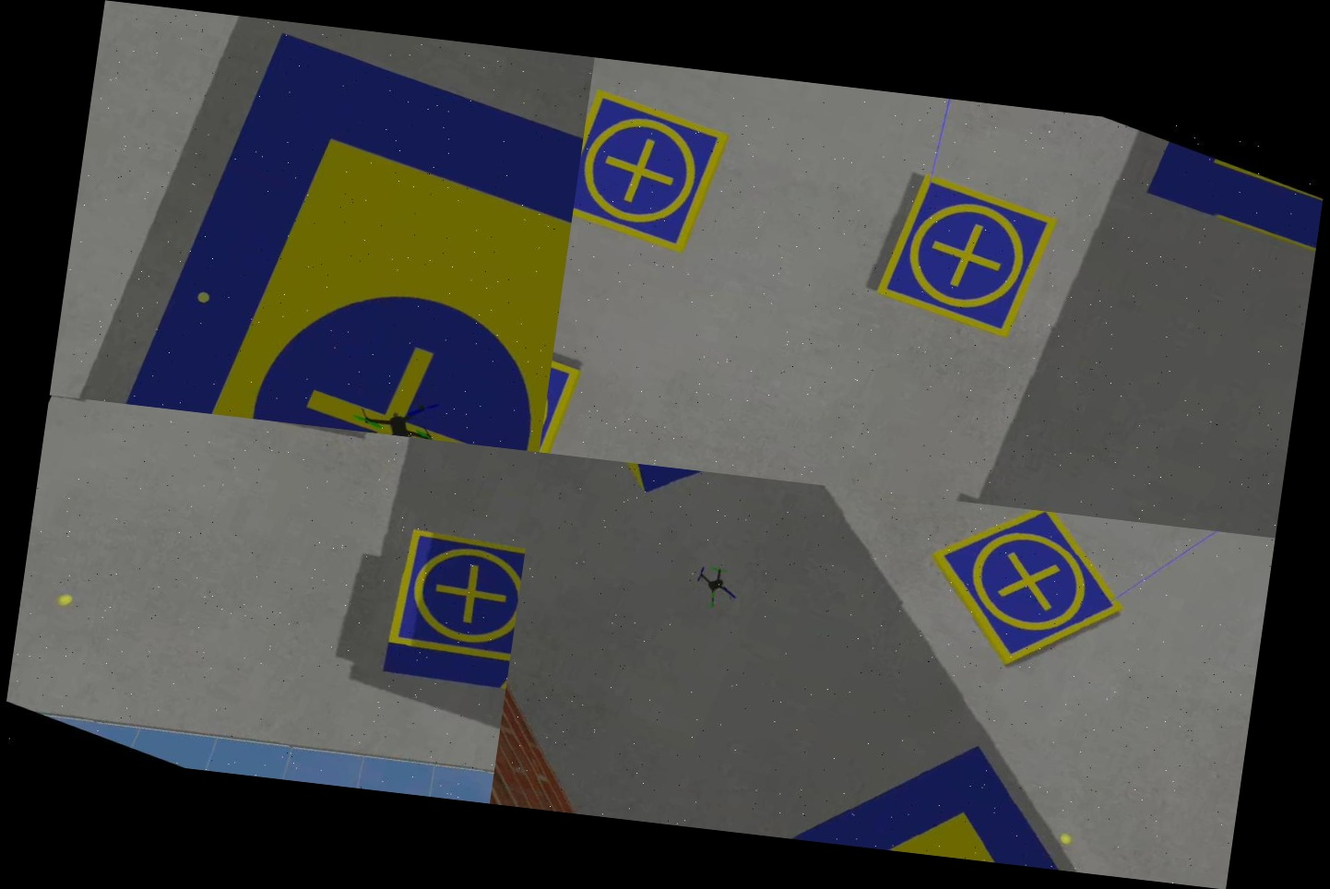large_base: (93, 8, 594, 452), (645, 659, 1248, 889)
small_base: (897, 497, 1152, 697), (866, 165, 1068, 346), (358, 504, 529, 693), (568, 85, 739, 260)
